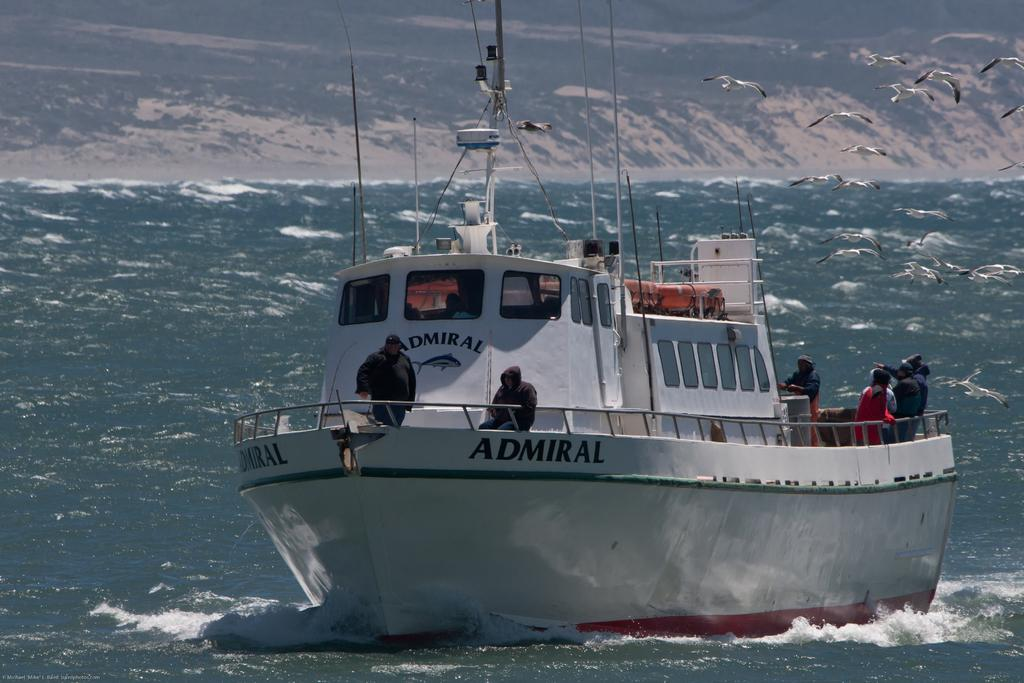PassengerShip: (217, 4, 967, 650)
